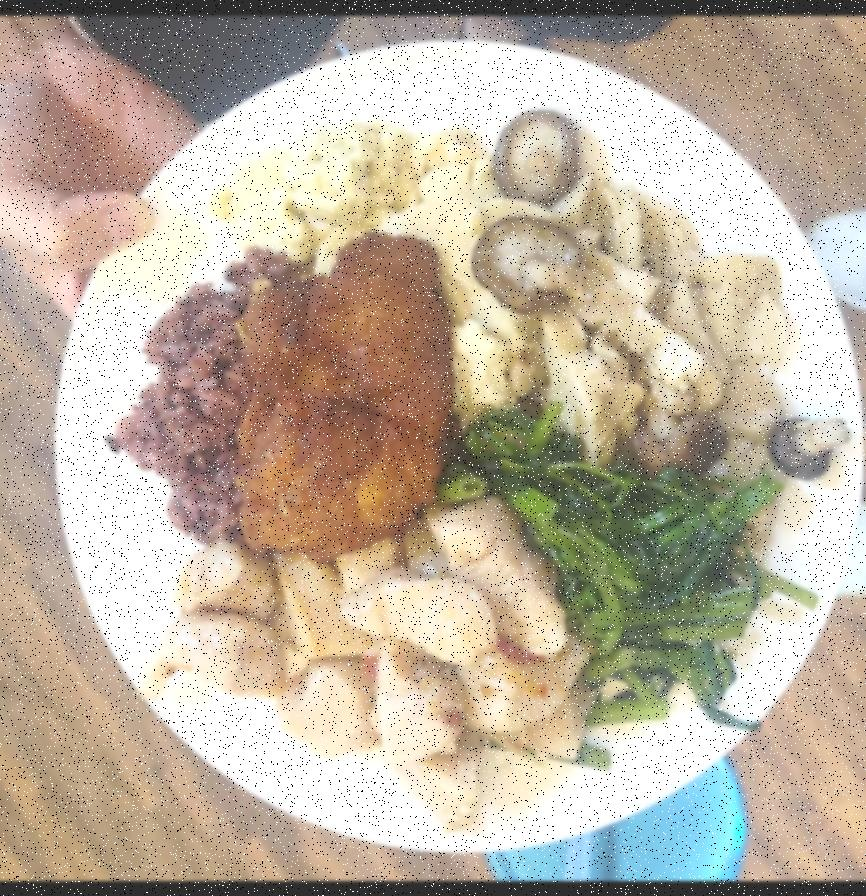grilled chicken leg steak: (228, 230, 453, 557)
plate: (39, 30, 866, 863)
purple rice: (100, 272, 240, 553)
scallion chicken: (160, 502, 582, 824)
side dish: (488, 107, 856, 478), (454, 404, 762, 710), (230, 131, 534, 408)
